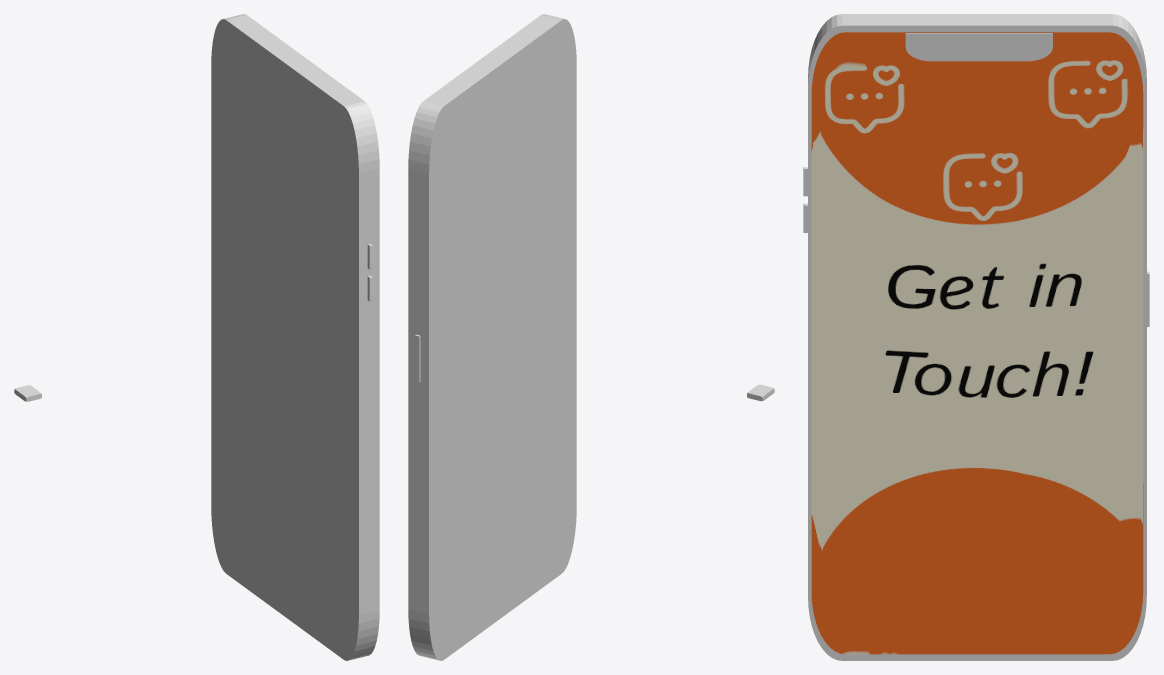
The model's file is phone2.gltf.
3 renders of one model, left to right at view 1: azimuth 30°, elevation 25°; view 2: azimuth 150°, elevation 25°; view 3: azimuth 270°, elevation 25°, orthographic. The views are drawn at different scales.
Parts seen in each view (by area): view 1: Plane; view 2: Plane; view 3: Plane.001, Plane, Plane.002.
Boxes of the visible parts, x1,y1,x2,y2 form: Plane: (211,14,379,660); Plane: (408,14,576,660); Plane.001: (811,32,1143,654); Plane: (808,14,1146,660); Plane.002: (905,33,1052,61).
Bounding box in the file's own units: 6.46 × 11.92 × 5.89.
Materials: 1 (1 with a texture image).
